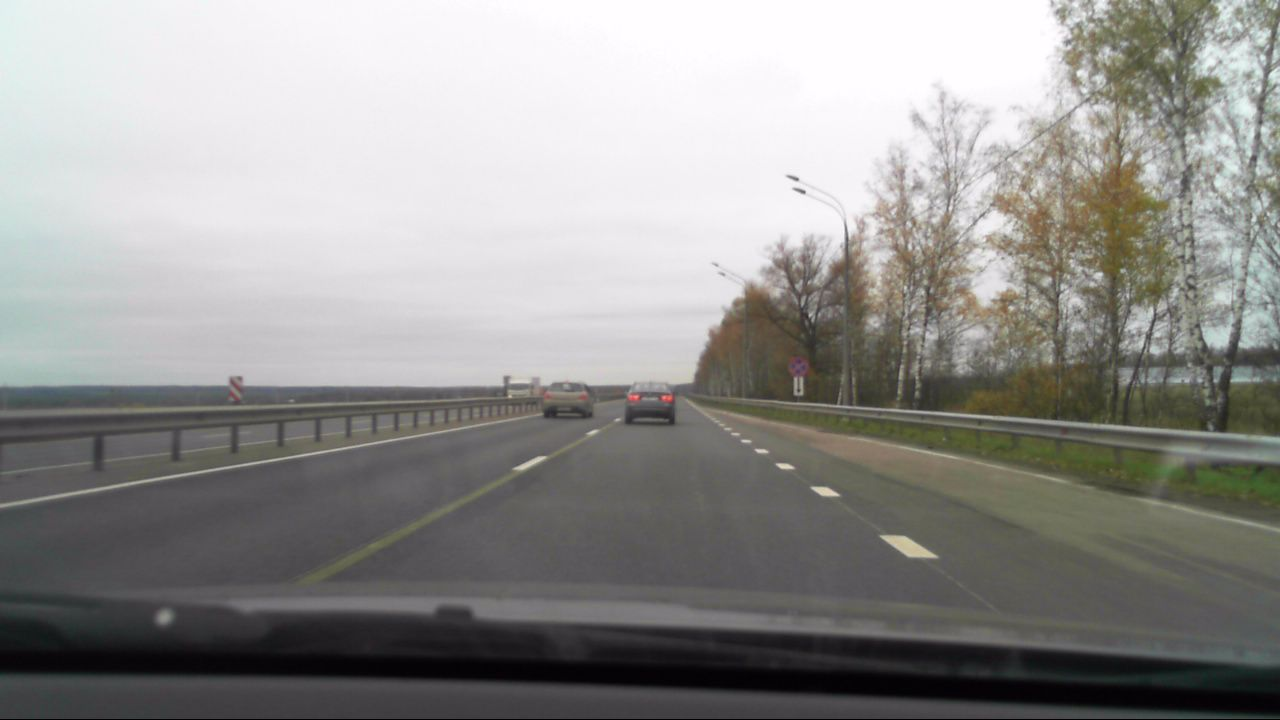No Parking: (789, 355, 810, 375)
